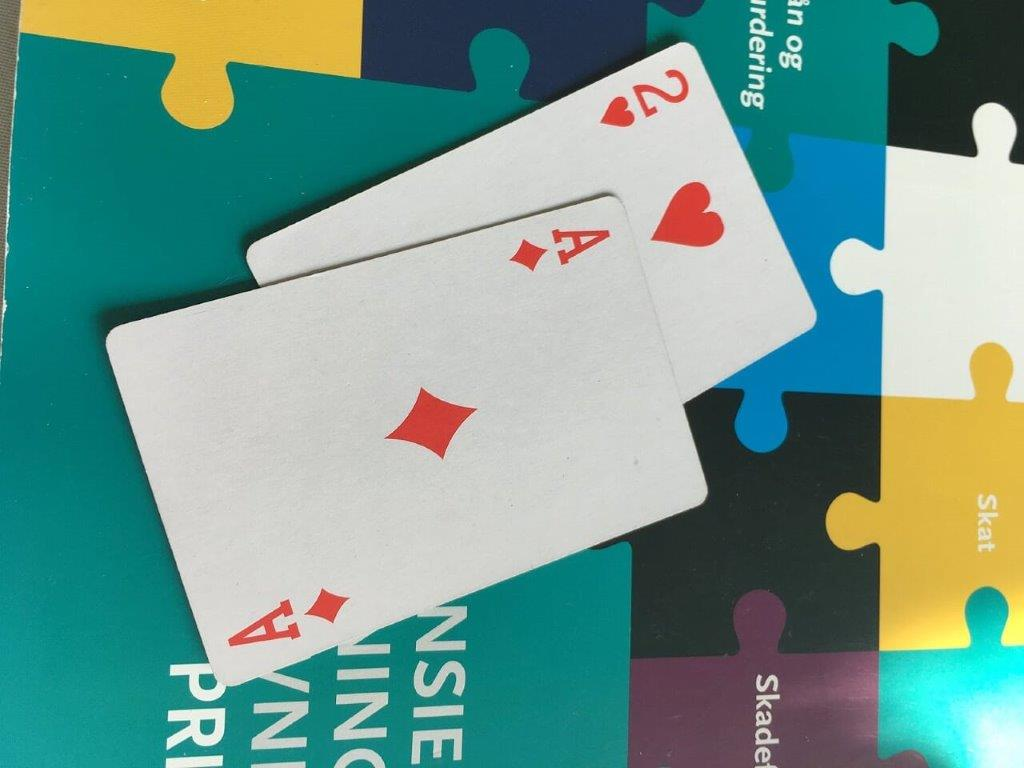2H: (354, 42, 761, 192)
AD: (102, 192, 711, 689)
